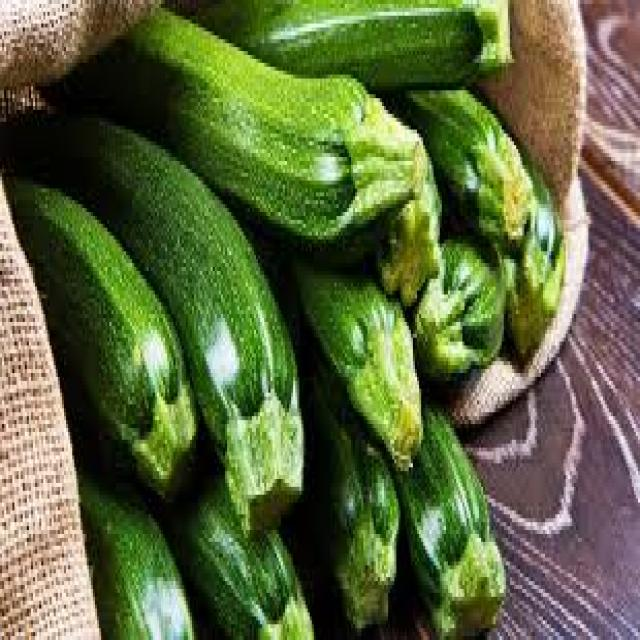Zucchini: (150, 34, 430, 236)
